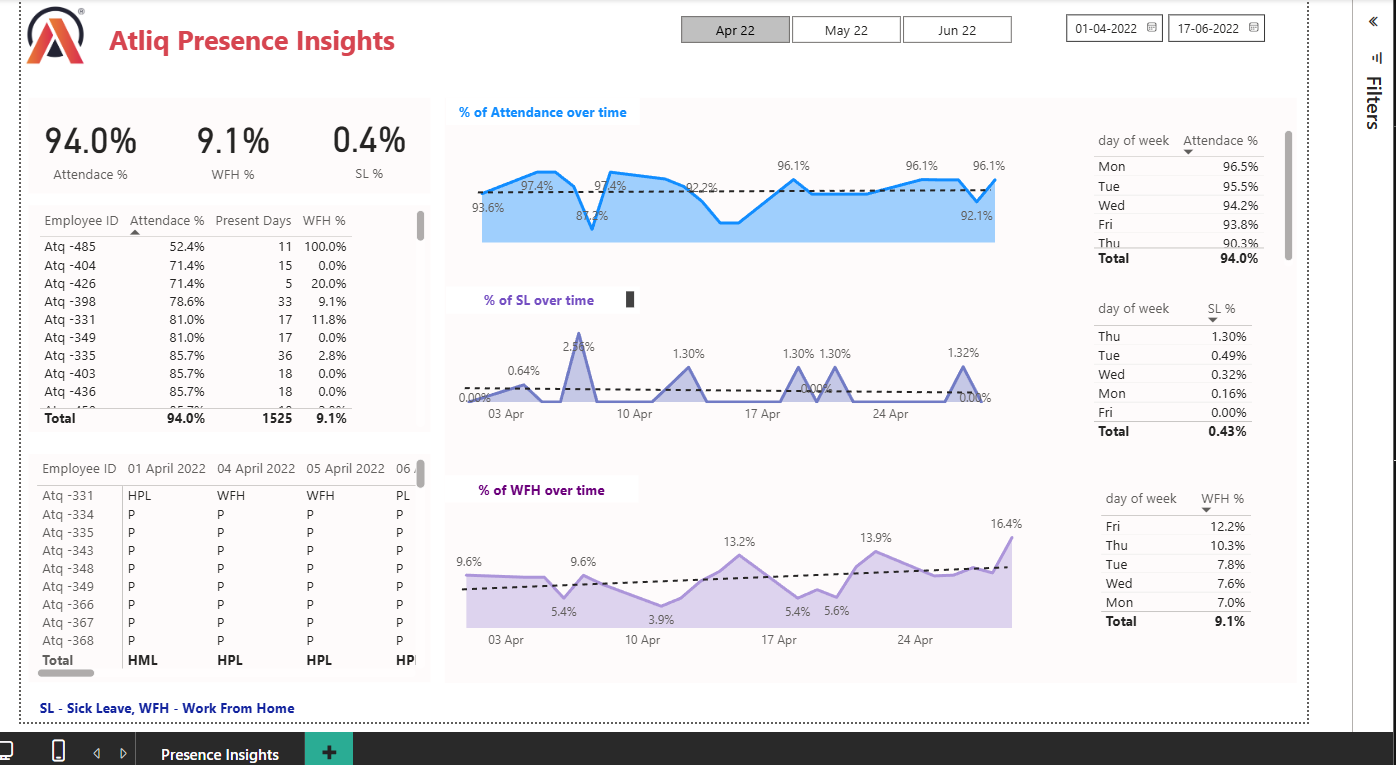

What the dashboard file says about the page in this screenshot:
{"tool":"powerbi","page":{"name":"Presence Insights","canvas":[1280,720],"ordinal":0},"visuals":[{"type":"textbox","box":[7.8,205.6,399.9,225.5],"z":0},{"type":"textbox","box":[7.8,453.3,399.8,227.6],"z":1000},{"type":"textbox","box":[422.3,97.9,848.1,582.3],"z":2000},{"type":"textbox","box":[7.8,98,399.9,95.4],"z":3000},{"type":"tableEx","fields":{"Values":["Final Data.Employee ID","Measures (2).Attendace %","Measures (2).Present Days","Measures (2).WFH %"]},"box":[12.6,205.2,394.9,225.7],"z":4000},{"type":"slicer","fields":{"Values":["Final Data.Date"]},"box":[1027.3,5.2,252.7,46.3],"z":5000},{"type":"slicer","fields":{"Values":["Final Data.MMM YY"]},"box":[630.4,10.5,379.5,35.8],"z":6000},{"type":"areaChart","fields":{"Category":["Final Data.MMM YY","Final Data.Date"],"Y":["Measures (2).WFH %"]},"box":[420.7,502.3,589,153.5],"z":7000},{"type":"areaChart","fields":{"Category":["Final Data.WeekNo","Final Data.Date"],"Y":["Measures (2).Attendace %"]},"box":[444.1,144.9,540.4,103.2],"z":8000},{"type":"card","fields":{"Values":["Measures (2).Attendace %"]},"box":[7.8,98,124,96.3],"z":9000},{"type":"card","fields":{"Values":["Measures (2).WFH %"]},"box":[141.4,98,138.8,96.3],"z":10000},{"type":"areaChart","fields":{"Category":["Final Data.MMM YY","Final Data.Date"],"Y":["Measures (2).SL %"]},"box":[422.5,307.1,556,124],"z":11000},{"type":"image","box":[0,0,70,71],"z":12000},{"type":"card","fields":{"Values":["Measures (2).SL %"]},"box":[286.3,97.2,121.4,96.3],"z":13000},{"type":"textbox","box":[70.3,0,320.1,71.1],"z":14000},{"type":"textbox","box":[422.4,98.2,192.5,27.5],"z":15000},{"type":"textbox","box":[422.5,286.3,192.6,26.9],"z":16000},{"type":"textbox","box":[422.1,473.7,192.6,27.2],"z":17000},{"type":"pivotTable","fields":{"Rows":["Final Data.Employee ID"],"Columns":["Final Data.Date"],"Values":["Min(Final Data.Value)"]},"box":[11.7,453.3,395.9,227.6],"z":18000},{"type":"textbox","box":[13.6,691.6,289.8,28.2],"z":19000},{"type":"tableEx","fields":{"Values":["Final Data.day of week","Measures (2).Attendace %"]},"box":[1060.9,125.8,209.9,145.7],"z":20000},{"type":"tableEx","fields":{"Values":["Final Data.day of week","Measures (2).SL %"]},"box":[1060.9,294.1,191.7,167.4],"z":21000},{"type":"tableEx","fields":{"Values":["Final Data.day of week","Measures (2).WFH %"]},"box":[1068.7,483.2,170,167.4],"z":22000}]}

Visuals, with their boxes on the page's 1280x720 design canvas (x1, y1, x2, y2). These are canvas units, not pixel positions in the 1396x765 screenshot, which may show the page scaled, cropped or inside an application window:
textbox: box=[8, 206, 408, 431]
textbox: box=[8, 453, 408, 681]
textbox: box=[422, 98, 1270, 680]
textbox: box=[8, 98, 408, 193]
tableEx - Final Data.Employee ID x Measures (2).Attendace %: box=[13, 205, 408, 431]
slicer - Final Data.Date: box=[1027, 5, 1280, 52]
slicer - Final Data.MMM YY: box=[630, 10, 1010, 46]
areaChart - Final Data.MMM YY x Final Data.Date: box=[421, 502, 1010, 656]
areaChart - Final Data.WeekNo x Final Data.Date: box=[444, 145, 984, 248]
card - Measures (2).Attendace %: box=[8, 98, 132, 194]
card - Measures (2).WFH %: box=[141, 98, 280, 194]
areaChart - Final Data.MMM YY x Final Data.Date: box=[422, 307, 978, 431]
image: box=[0, 0, 70, 71]
card - Measures (2).SL %: box=[286, 97, 408, 194]
textbox: box=[70, 0, 390, 71]
textbox: box=[422, 98, 615, 126]
textbox: box=[422, 286, 615, 313]
textbox: box=[422, 474, 615, 501]
pivotTable - Final Data.Employee ID x Final Data.Date: box=[12, 453, 408, 681]
textbox: box=[14, 692, 303, 720]
tableEx - Final Data.day of week x Measures (2).Attendace %: box=[1061, 126, 1271, 272]
tableEx - Final Data.day of week x Measures (2).SL %: box=[1061, 294, 1253, 462]
tableEx - Final Data.day of week x Measures (2).WFH %: box=[1069, 483, 1239, 651]
